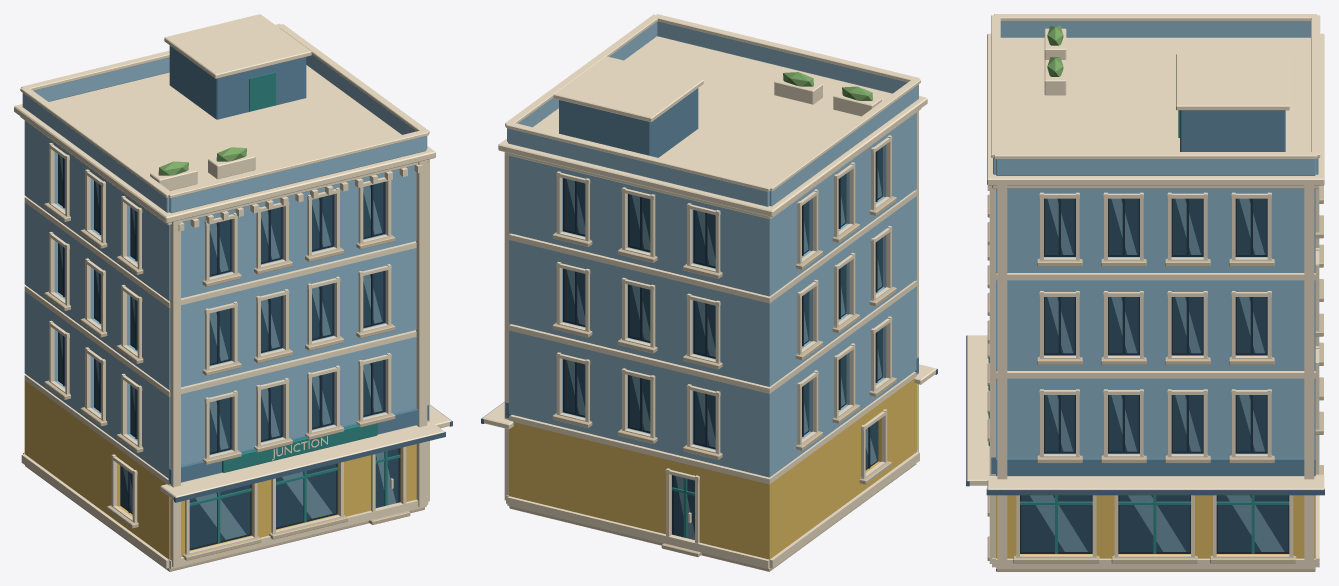
The model's file is junction_convenience.glb.
3 renders of one model, left to right at view 1: azimuth 30°, elevation 25°; view 2: azimuth 150°, elevation 25°; view 3: azimuth 270°, elevation 25°, orthographic. The views are drawn at different scales.
Visible parts, largest first — view 1: JunctionConvenience_StaticMesh; view 2: JunctionConvenience_StaticMesh; view 3: JunctionConvenience_StaticMesh.
Boxes of the visible parts, x1,y1,x2,y2 form: JunctionConvenience_StaticMesh: (14, 14, 452, 571); JunctionConvenience_StaticMesh: (481, 14, 937, 571); JunctionConvenience_StaticMesh: (966, 14, 1324, 571).
Size of the model in its own units: 10.52 by 14.27 by 10.32.
